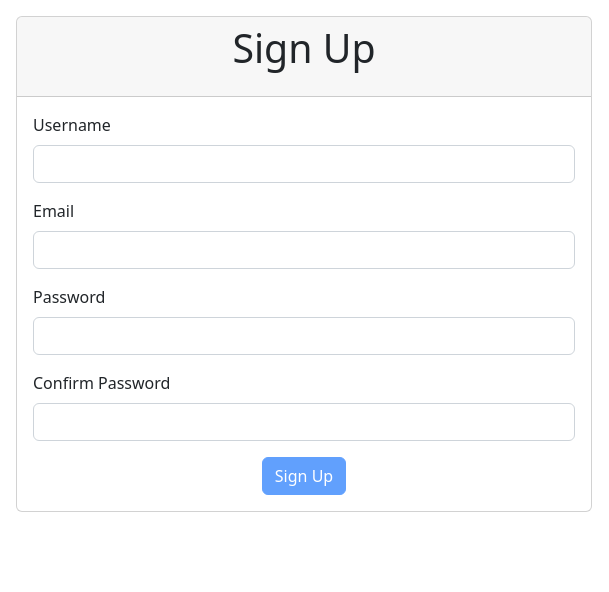
Test case: Sign Up Page › Interactions › clears validation errors after username field is updated
Type "gideonpeters" into the field labelled "Username".
click(304, 164); type("gideonpeters")  # box [33,145,575,183]
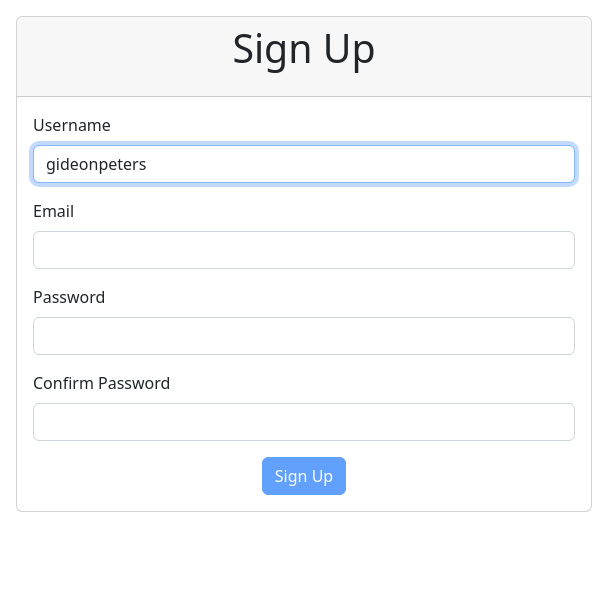
Type "gideonpeters85@gmail.com" into the field labelled "Email".
click(304, 250); type("gideonpeters85@gmail.com")  # box [33,231,575,269]
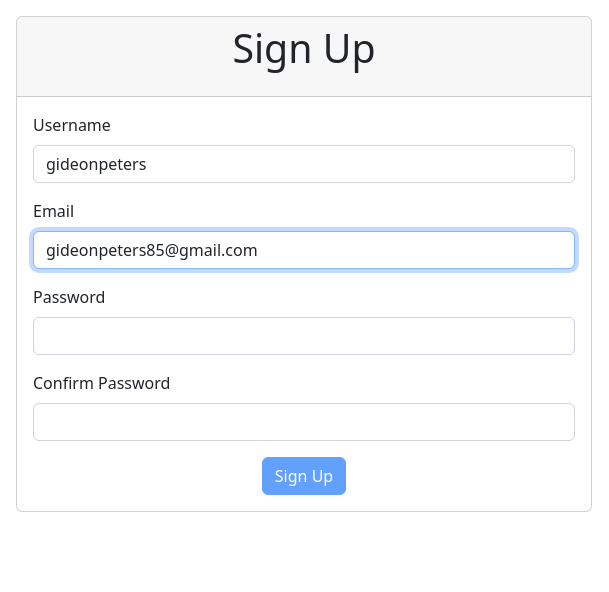
Type "P4ssword" into the password field labelled "Password".
click(304, 336); type("P4ssword")  # box [33,317,575,355]
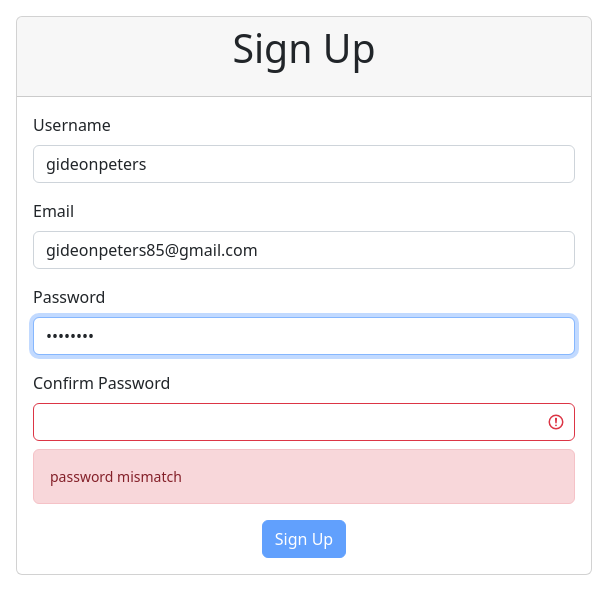
Type "P4ssword" into the password field labelled "Confirm Password".
click(304, 422); type("P4ssword")  # box [33,403,575,441]
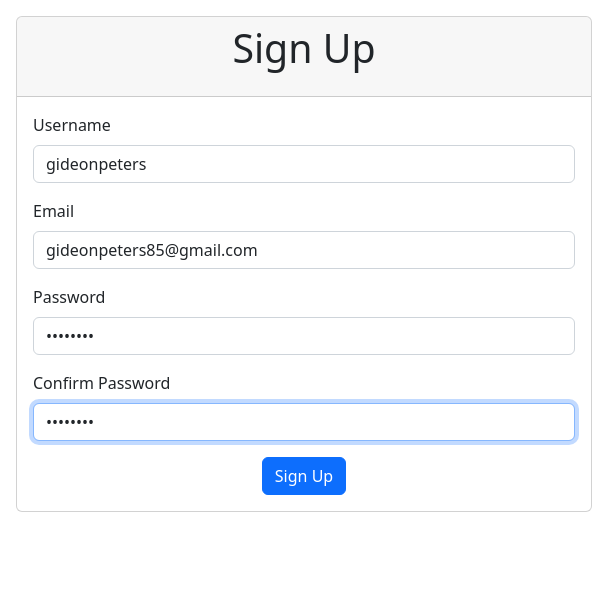
Click the button "Sign Up".
click(304, 476)  # box [262,457,346,495]
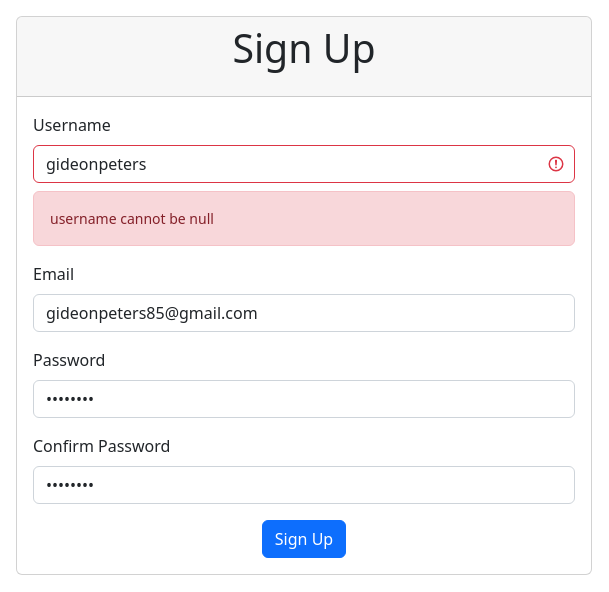
Type "updated" into the field labelled "Username".
click(304, 164); type("updated")  # box [33,145,575,183]
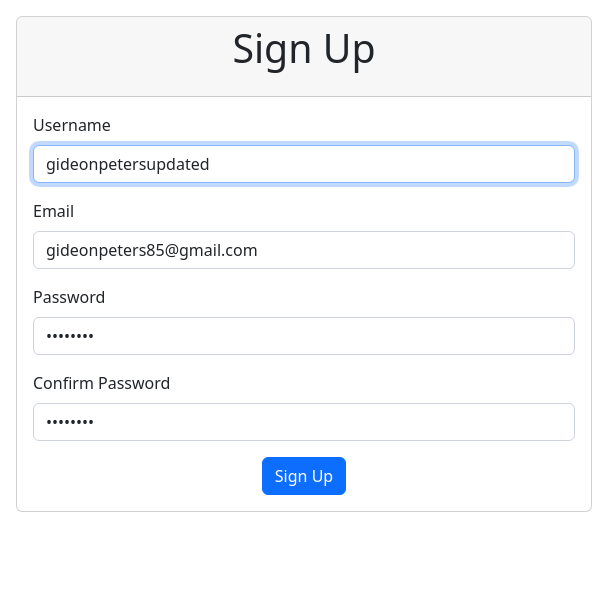
Result: the text "username cannot be null" is gone
